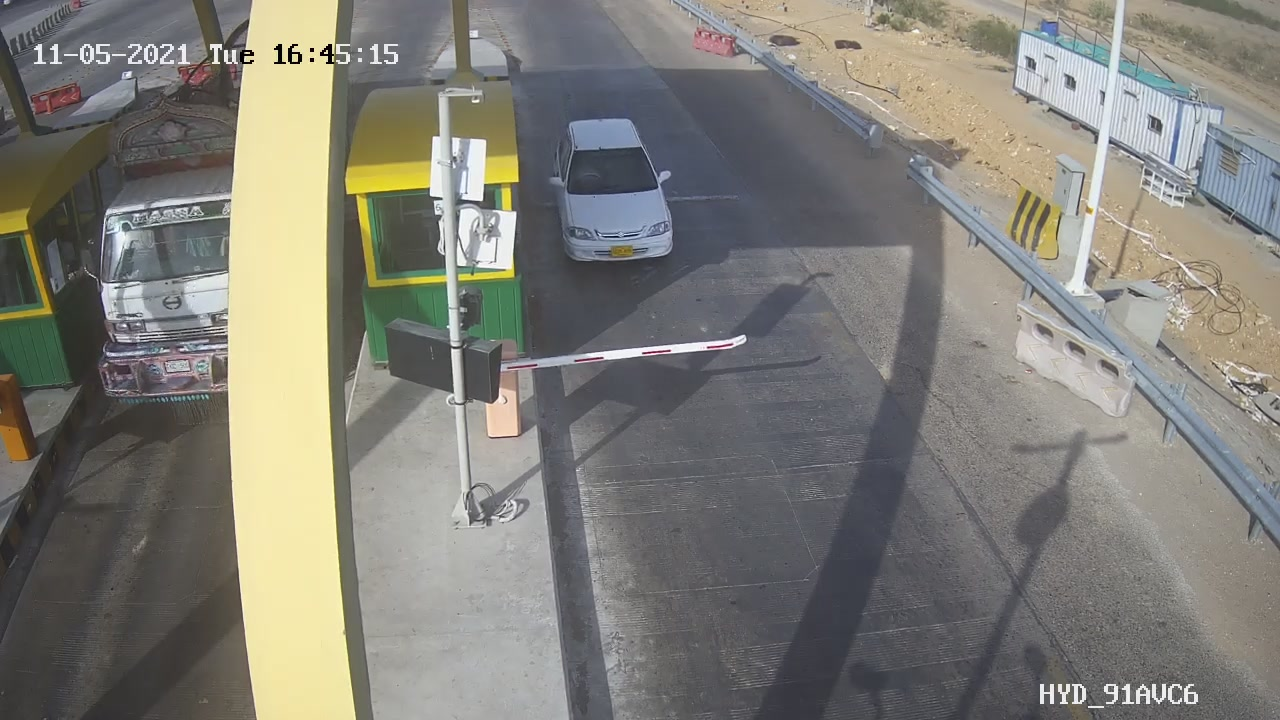F1: (534, 104, 696, 278)
